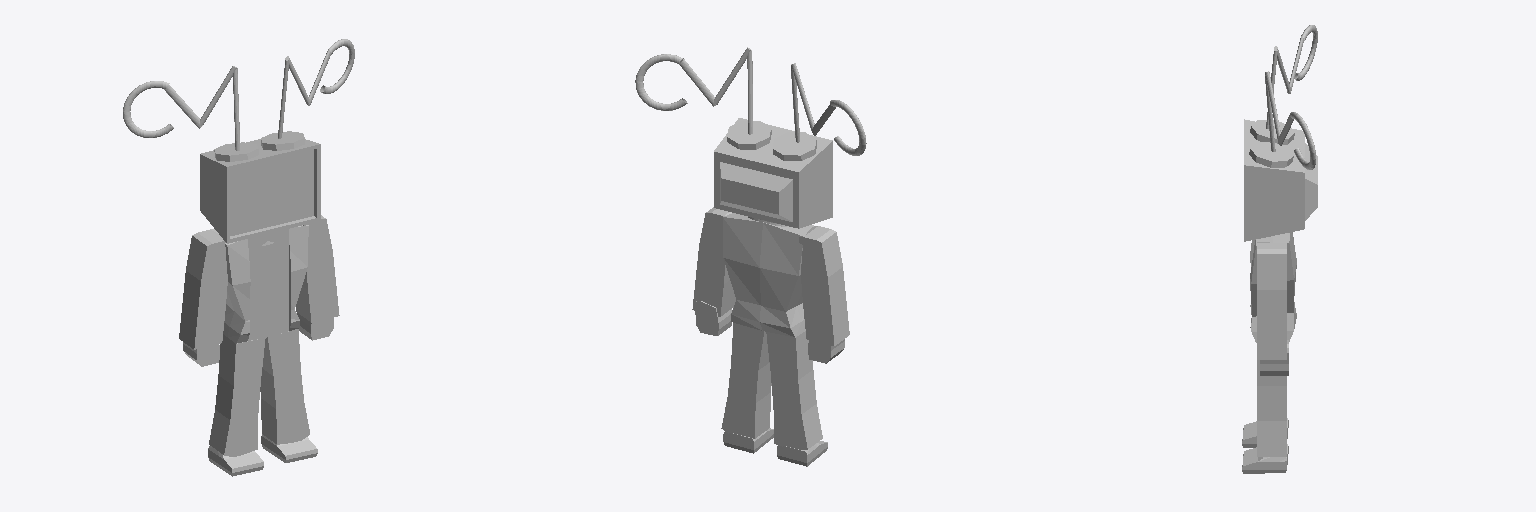
3 renders of one model, left to right at view 1: azimuth 30°, elevation 25°; view 2: azimuth 150°, elevation 25°; view 3: azimuth 270°, elevation 25°, orthographic.
Visible parts, largest first — view 1: sdfg, ungrouped; view 2: sdfg; view 3: sdfg.
Part boxes in pixels (bbox=[...]): sdfg: bbox=[123, 39, 354, 476]; ungrouped: bbox=[248, 229, 290, 340]; sdfg: bbox=[635, 47, 866, 466]; sdfg: bbox=[1242, 25, 1317, 473].
Size of the model in its own units: 19.61 by 32.08 by 5.6.